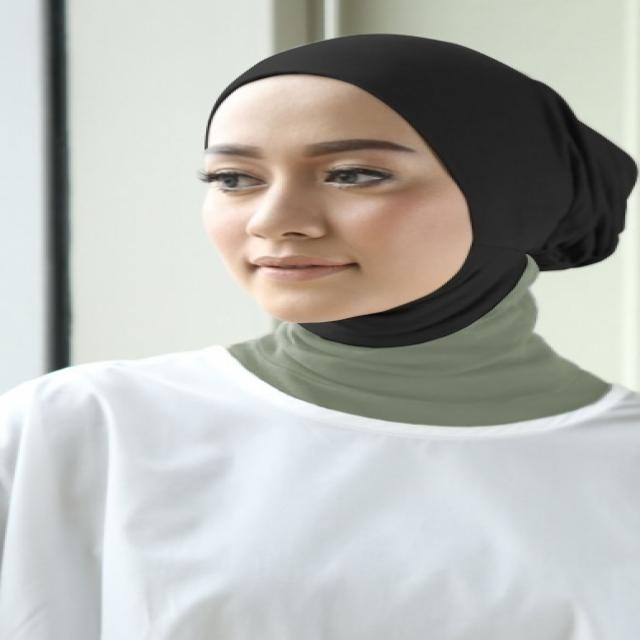head: (187, 40, 640, 324)
